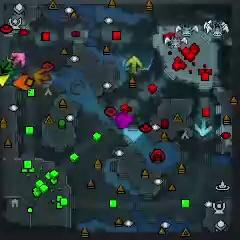p1: (5, 74, 20, 87)
p3: (115, 112, 135, 129)
p4: (0, 75, 10, 88)
p5: (14, 75, 33, 92)
x1: (11, 51, 26, 68)
x2: (126, 56, 142, 74)
x3: (195, 119, 212, 137)
x4: (3, 58, 19, 79)
x4Clone: (0, 60, 11, 74)
x5: (33, 69, 51, 85)
